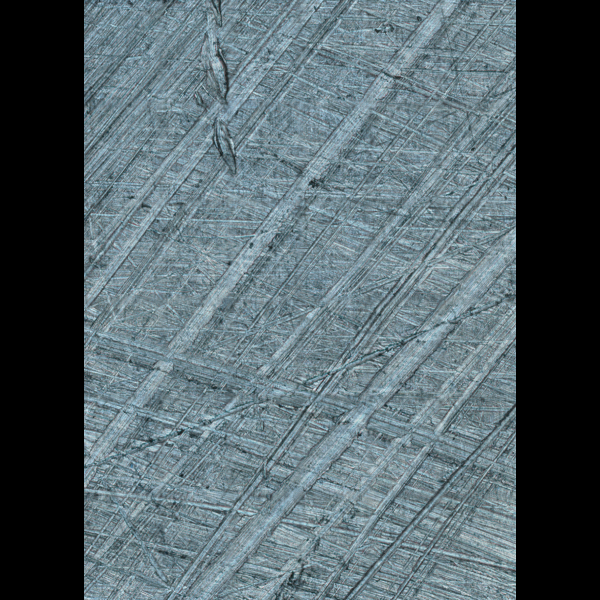d: (186, 0, 247, 181)
